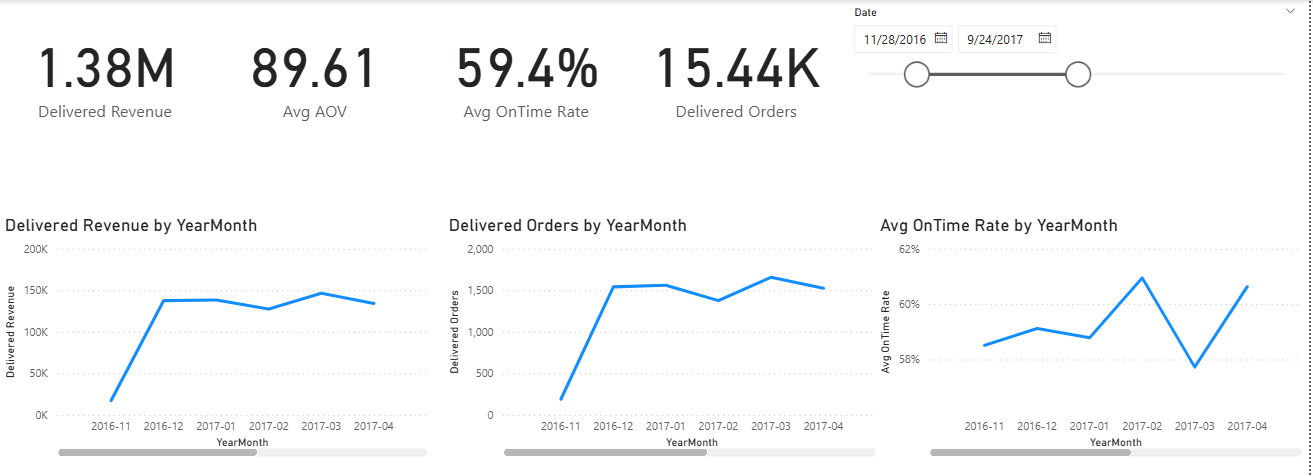

The dashboard page shown, as its layout file describes it:
{"tool":"powerbi","page":{"name":"Page 1","canvas":[1280,720],"ordinal":0},"visuals":[{"type":"card","fields":{"Values":["DateTable.Delivered Revenue"]},"box":[0,0,205.8,140],"z":0},{"type":"card","fields":{"Values":["DateTable.Avg AOV"]},"box":[205.8,0,205.8,140],"z":1000},{"type":"card","fields":{"Values":["DateTable.Avg OnTime Rate"]},"box":[411.7,0,205.8,140],"z":2000},{"type":"card","fields":{"Values":["DateTable.Delivered Orders"]},"box":[617.5,0,205.8,140],"z":3000},{"type":"lineChart","fields":{"Y":["DateTable.Delivered Revenue"],"Category":["DateTable.YearMonth"]},"box":[0,209.9,424,241.5],"z":4000},{"type":"lineChart","fields":{"Category":["DateTable.YearMonth"],"Y":["DateTable.Delivered Orders"]},"box":[433.6,209.9,433.6,241.5],"z":5000},{"type":"lineChart","fields":{"Category":["DateTable.YearMonth"],"Y":["DateTable.Avg OnTime Rate"]},"box":[856.3,209.9,424,241.5],"z":6000},{"type":"slicer","fields":{"Values":["DateTable.Date"]},"box":[823.3,0,456.9,140],"z":7000}]}

Visuals, with their boxes on the page's 1280x720 design canvas (x1, y1, x2, y2). These are canvas units, not pixel positions in the 1313x476 screenshot, which may show the page scaled, cropped or inside an application window:
card - DateTable.Delivered Revenue: (left=0, top=0, right=206, bottom=140)
card - DateTable.Avg AOV: (left=206, top=0, right=412, bottom=140)
card - DateTable.Avg OnTime Rate: (left=412, top=0, right=618, bottom=140)
card - DateTable.Delivered Orders: (left=618, top=0, right=823, bottom=140)
lineChart - DateTable.Delivered Revenue x DateTable.YearMonth: (left=0, top=210, right=424, bottom=451)
lineChart - DateTable.YearMonth x DateTable.Delivered Orders: (left=434, top=210, right=867, bottom=451)
lineChart - DateTable.YearMonth x DateTable.Avg OnTime Rate: (left=856, top=210, right=1280, bottom=451)
slicer - DateTable.Date: (left=823, top=0, right=1280, bottom=140)
